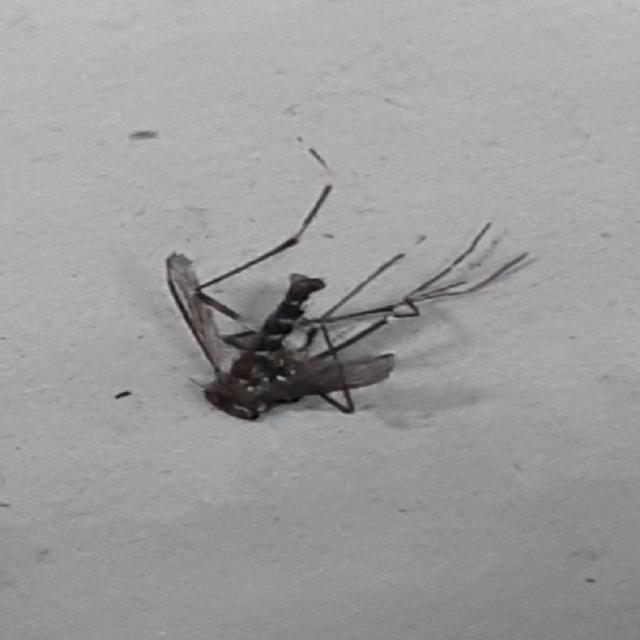albopictus: (144, 124, 544, 426)
